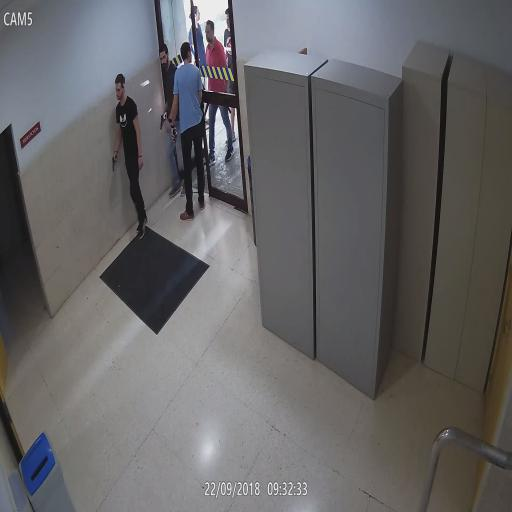Handgun: (110, 151, 118, 173), (159, 110, 167, 130), (170, 126, 178, 144)
